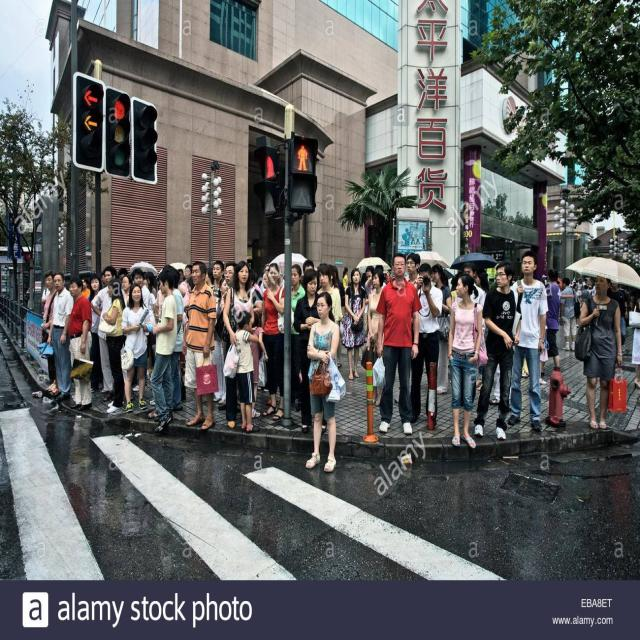body: (23, 258, 640, 326), (472, 258, 522, 441), (375, 252, 423, 436), (573, 272, 623, 431), (506, 249, 549, 431), (447, 272, 489, 449), (292, 268, 336, 434), (213, 258, 255, 428), (304, 290, 341, 473), (180, 259, 218, 430), (407, 260, 443, 426), (146, 268, 178, 434), (91, 265, 126, 402), (119, 282, 151, 413), (260, 261, 286, 421), (46, 271, 75, 402), (360, 267, 386, 408), (396, 251, 422, 392), (67, 276, 93, 412), (102, 278, 126, 414), (234, 309, 260, 433), (341, 267, 368, 381), (431, 262, 454, 395), (537, 268, 561, 378), (169, 266, 185, 412), (212, 277, 230, 406), (291, 263, 307, 406), (41, 268, 59, 392), (249, 310, 269, 419), (86, 273, 104, 393), (468, 360, 511, 410), (248, 312, 270, 404), (559, 277, 581, 351), (332, 265, 346, 368), (611, 282, 629, 354), (144, 333, 159, 418), (628, 290, 640, 390), (399, 221, 428, 250), (131, 268, 152, 307), (538, 346, 548, 383), (180, 353, 187, 403), (79, 276, 91, 300), (50, 368, 59, 394), (520, 353, 529, 378), (100, 269, 106, 289)
